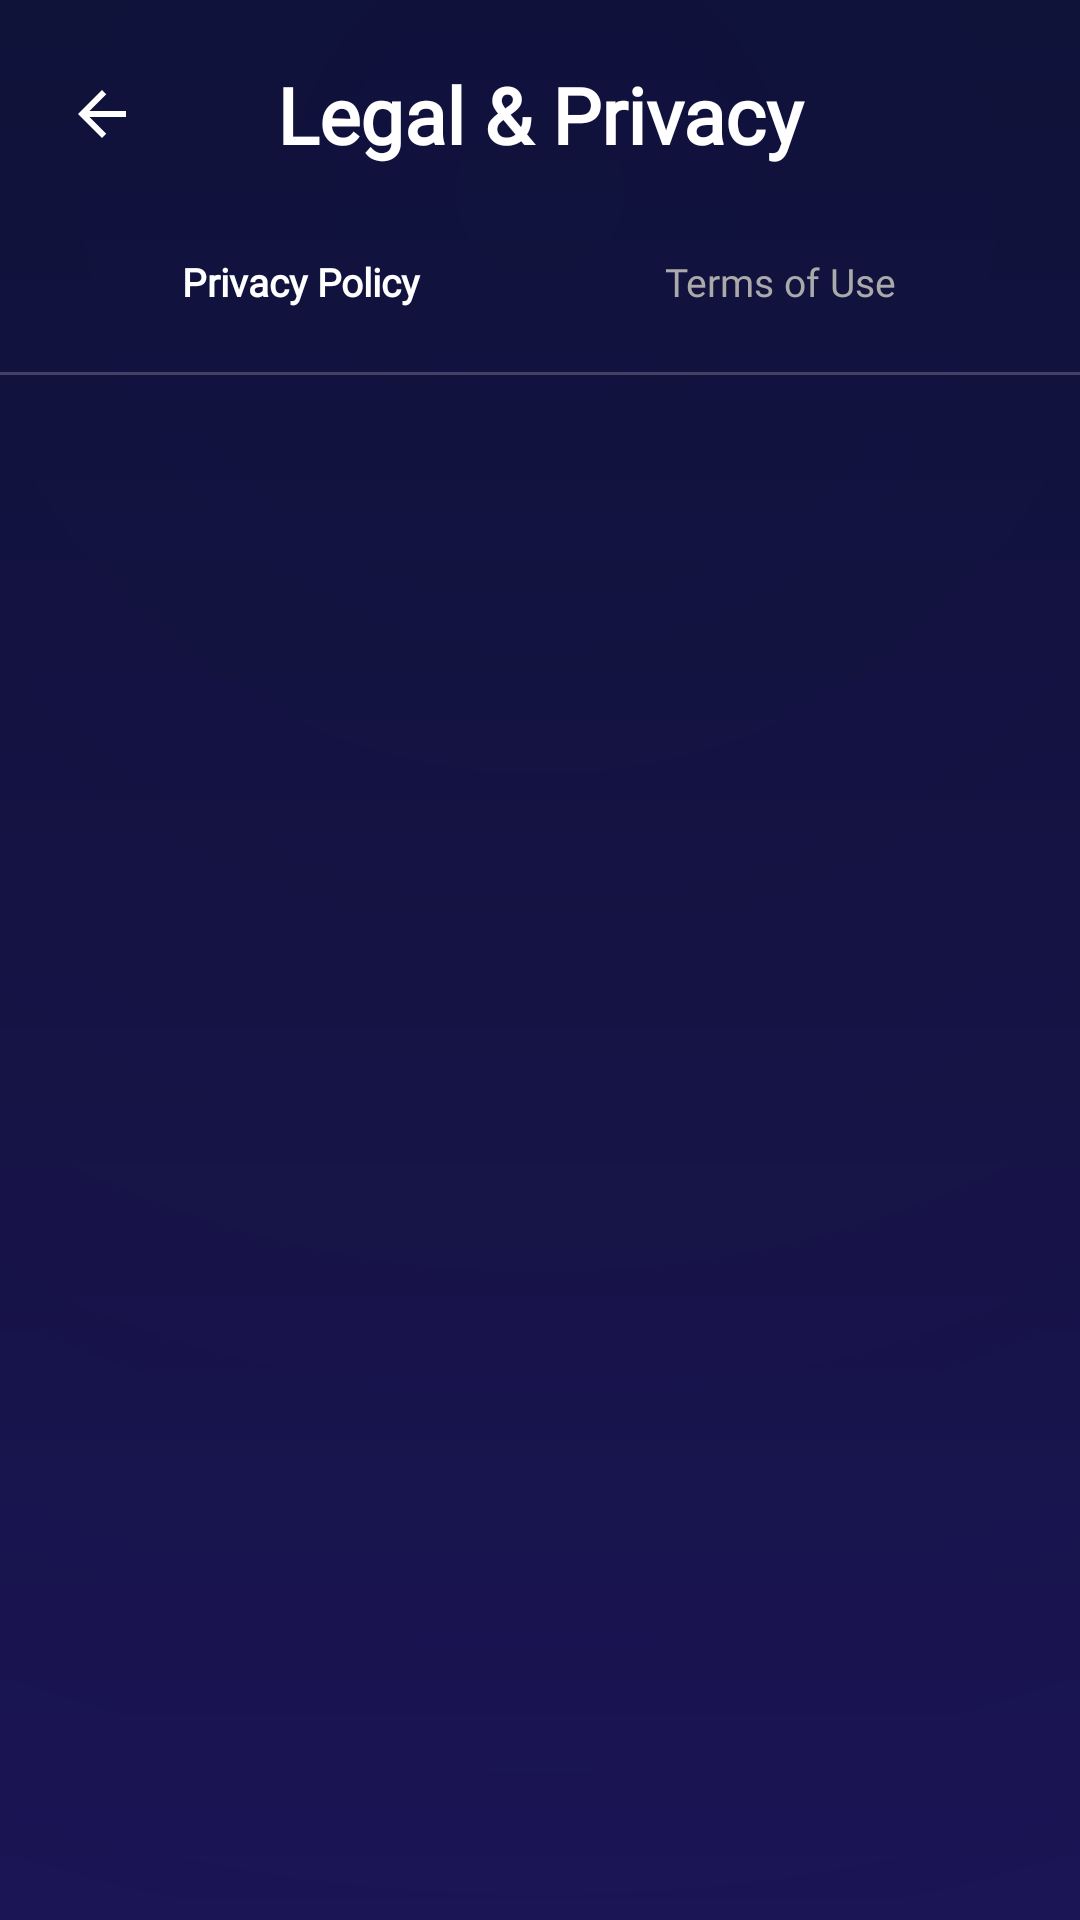

Named icons in this screenshot (1080×1920) and their bounding boxes, bbox=(x1, y1, x2, y2):
Back: bbox=(78, 90, 126, 138)
